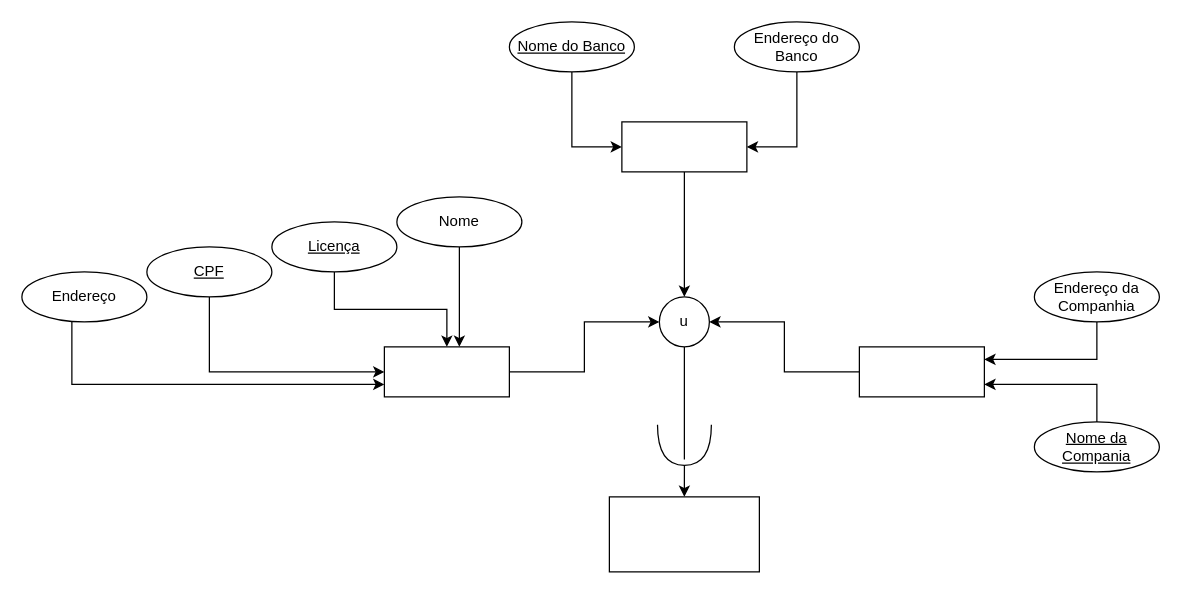
This 1181x594 diagram has some shape labels left out. Here are the shapes that lost their labels. From the top down, the centre of each, then its label:
pixel 684 146: Banco
pixel 446 371: Pessoa
pixel 921 371: Company
pixel 683 534: Owner
